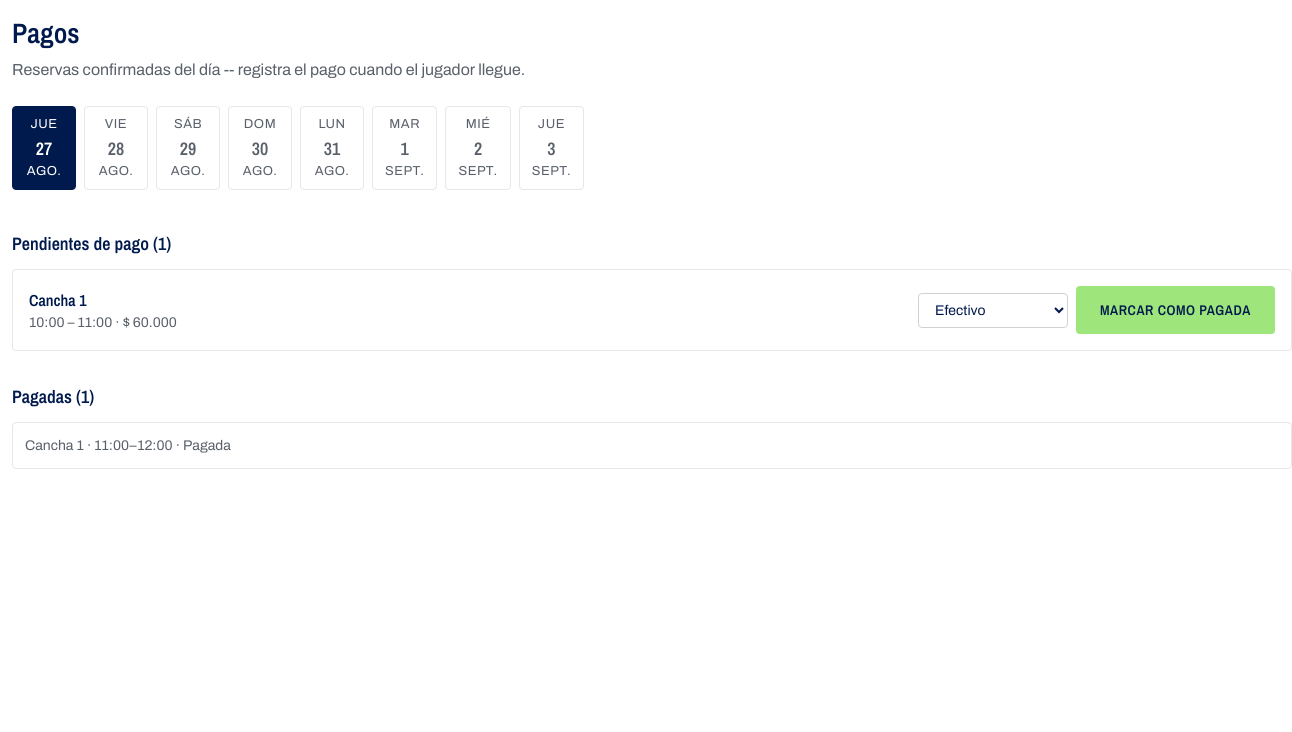
Test: PaymentsQueuePage › regression: the receipt survives the refetch that moves the reservation from unpaid to paid
This screenshot has width=1292, height=732.
Expected: the heading "Pendientes de pago (1)" is shown, [12, 231, 171, 256]
Click the button "Marcar como pagada" at (1176, 310), box [1076, 286, 1275, 334]
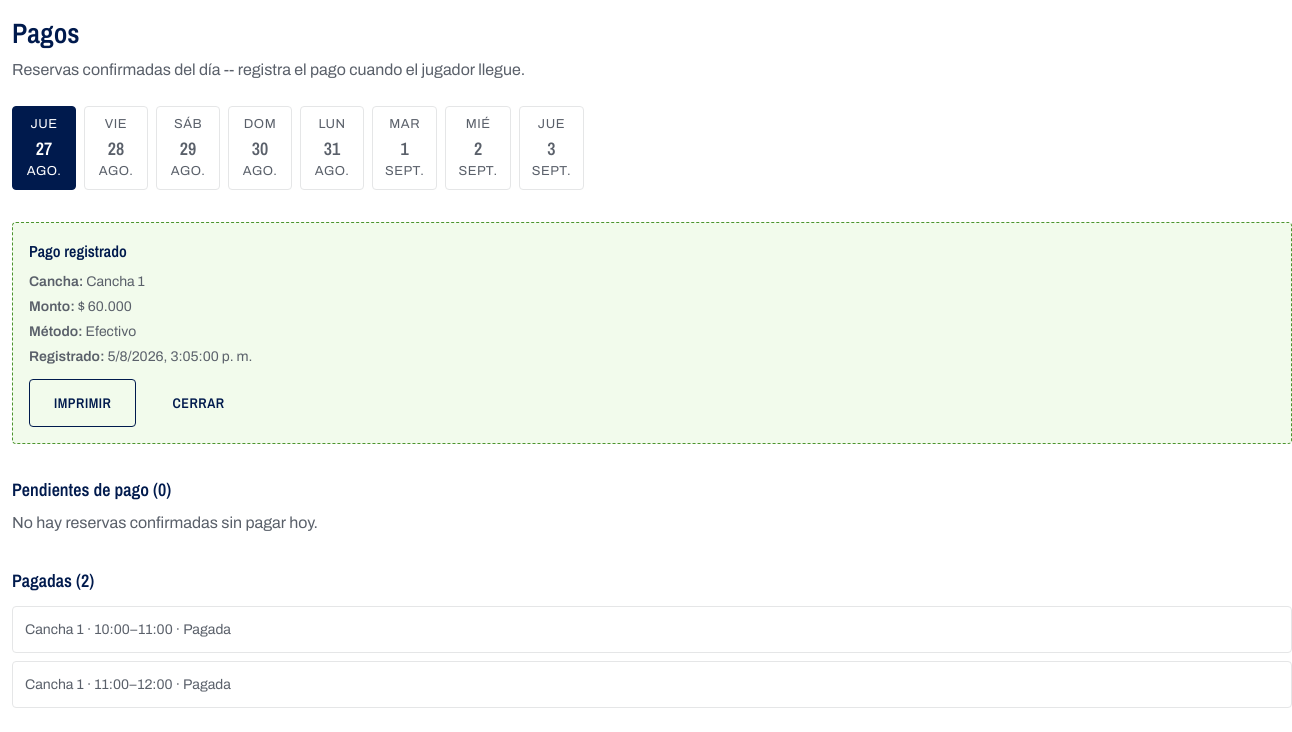
Now the heading "Pendientes de pago (0)" is shown, box [12, 477, 171, 502]
Now the heading "Pagadas (2)" is shown, box [12, 568, 94, 593]
Now the text "Pago registrado" is shown, box [29, 240, 127, 262]
